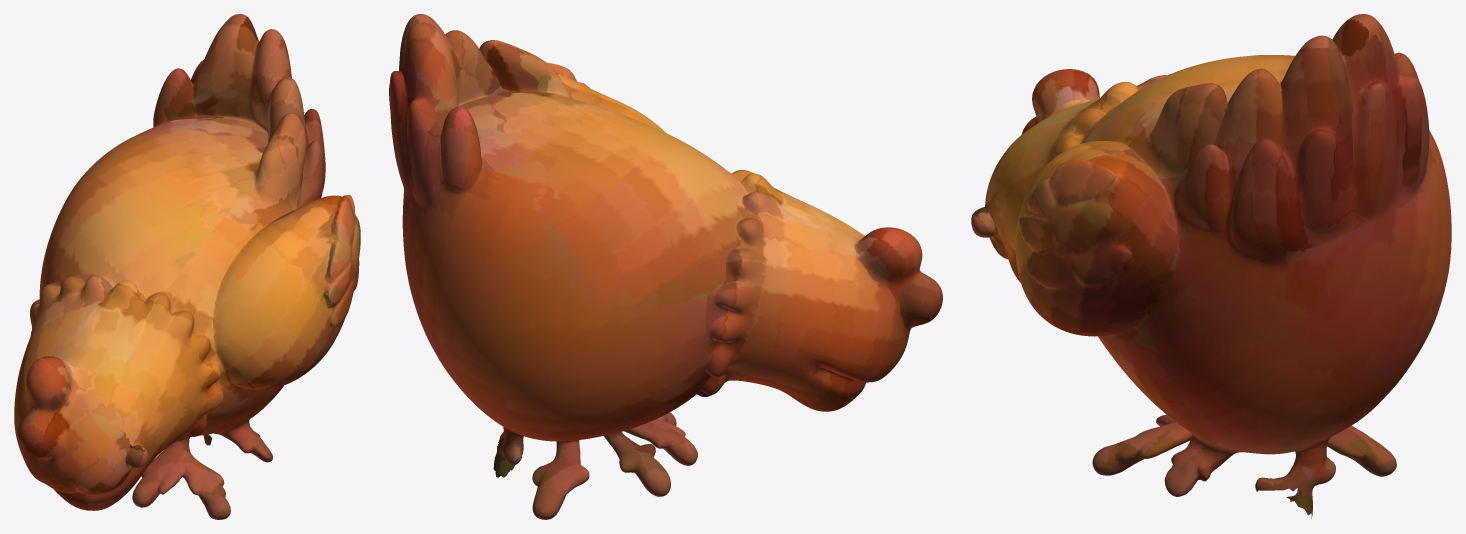
Rendered from ga-mai-2.glb.
The picture shows the model from 3 angles, left to right: view 1: azimuth 30°, elevation 25°; view 2: azimuth 150°, elevation 25°; view 3: azimuth 270°, elevation 25°; orthographic projection. The views are drawn at different scales.
Size of the model in its own units: 0.0977 by 0.0979 by 0.0798.
1 material, 1 textured.
